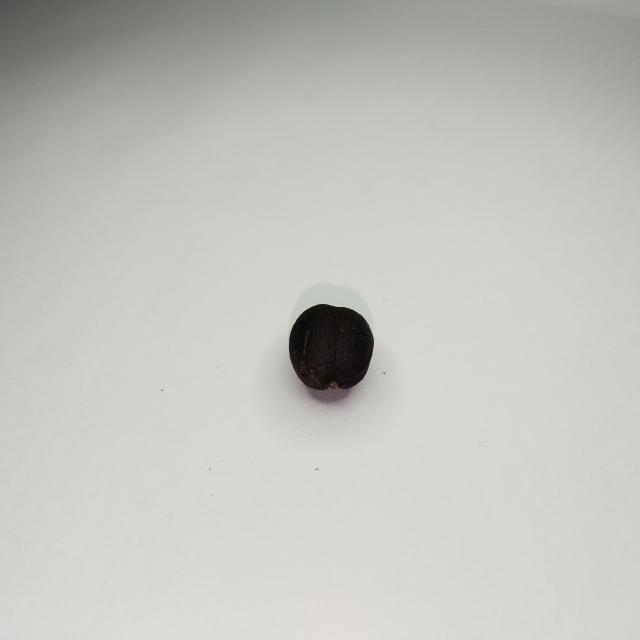Danado: (290, 304, 373, 390)
